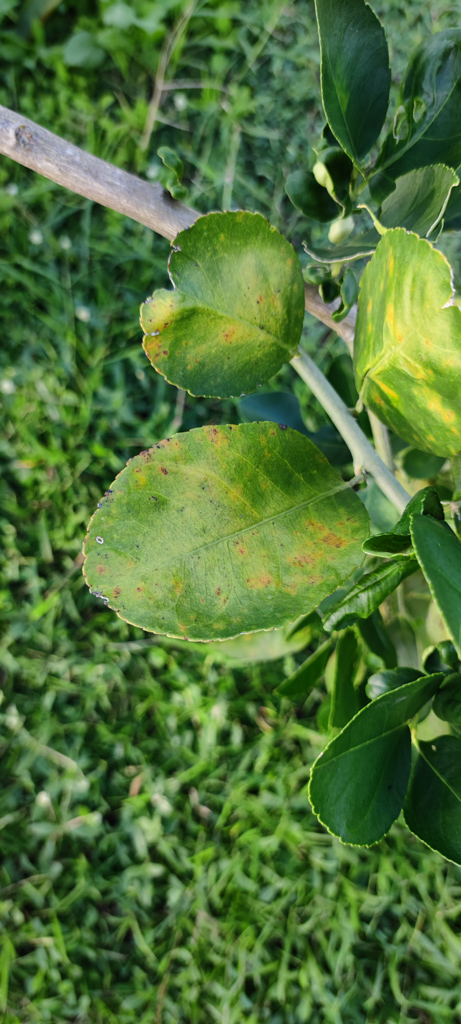Canker: (63, 421, 368, 655), (131, 207, 305, 402), (245, 548, 330, 599), (294, 507, 357, 552), (216, 318, 240, 346), (250, 285, 274, 310)
Pepper yellow leaf: (348, 216, 459, 468)
